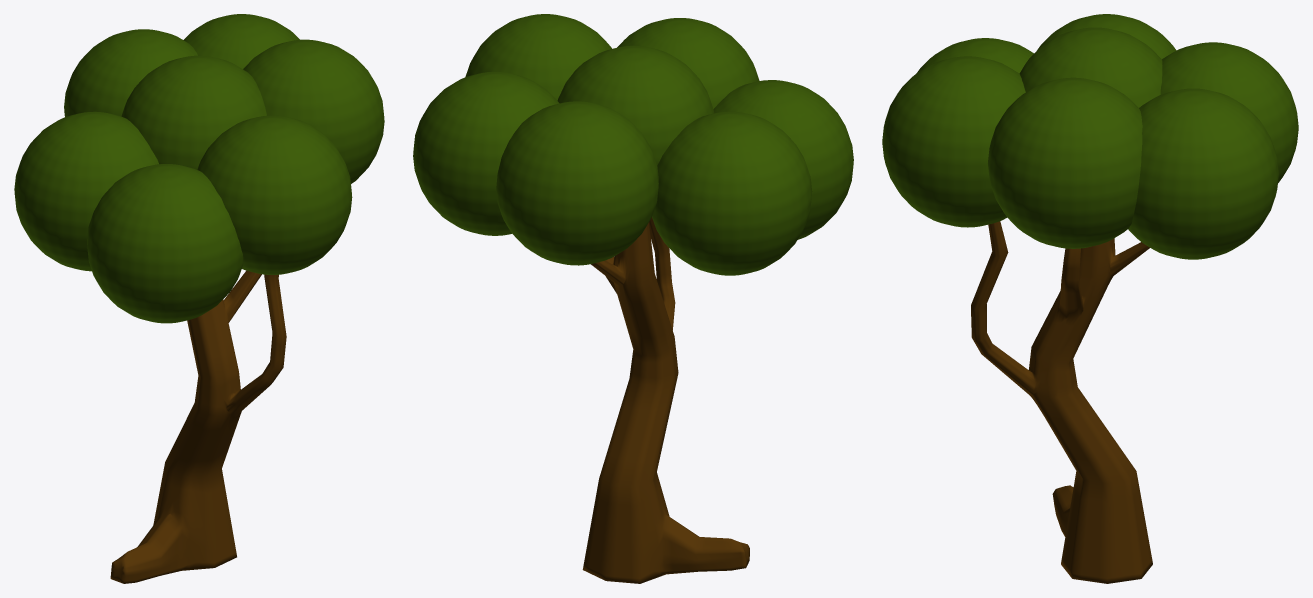
Rendered from arvorelp2.fbx.
3 views of the same model, side by side, from view 1: azimuth 30°, elevation 25°; view 2: azimuth 150°, elevation 25°; view 3: azimuth 270°, elevation 25° (orthographic). The views are drawn at different scales.
Parts seen in each view (by area): view 1: Cube; view 2: Cube; view 3: Cube.
Boxes of the visible parts, left/top/right/bottom form: Cube: left=14, top=14, right=384, bottom=583; Cube: left=413, top=14, right=853, bottom=583; Cube: left=882, top=14, right=1298, bottom=583.
Size of the model in its own units: 482 by 681 by 486.
